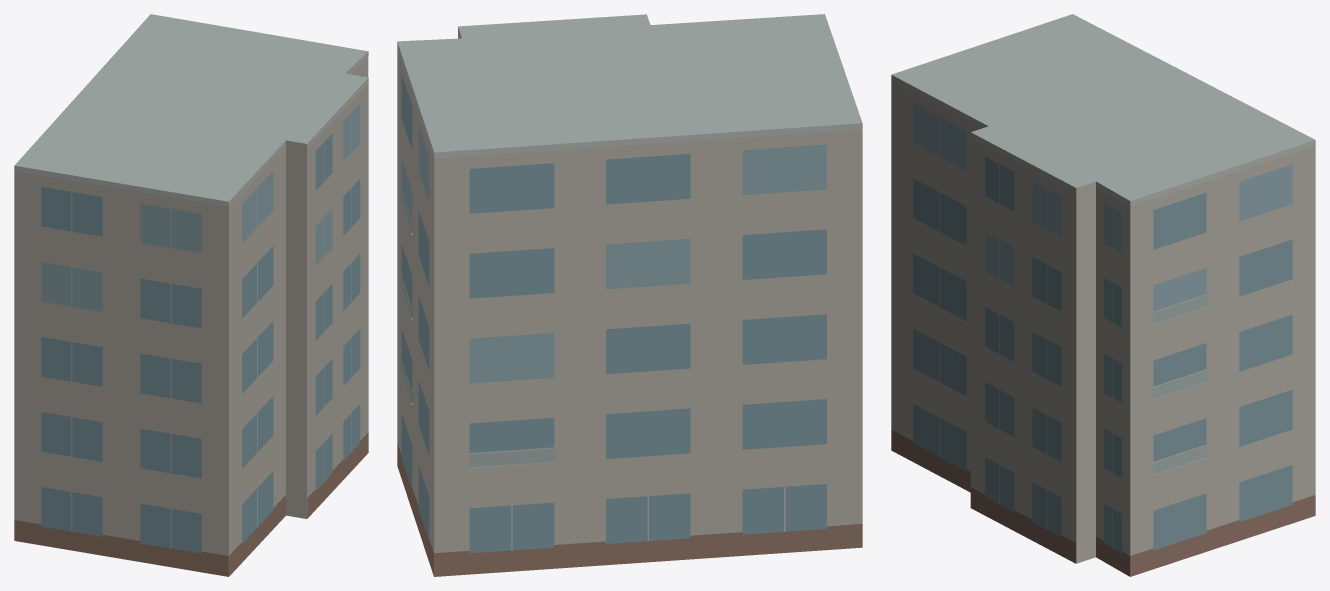
File: survey-upis-32765363.glb
3 renders of one model, left to right at view 1: azimuth 30°, elevation 25°; view 2: azimuth 150°, elevation 25°; view 3: azimuth 270°, elevation 25°, orthographic. The views are drawn at different scales.
Parts seen in each view (by area): view 1: survey-upis-32765363.tmp; view 2: survey-upis-32765363.tmp; view 3: survey-upis-32765363.tmp.
Boxes of the visible parts, <box> form: survey-upis-32765363.tmp: <box>14,14,368,576</box>; survey-upis-32765363.tmp: <box>397,14,862,576</box>; survey-upis-32765363.tmp: <box>891,14,1315,576</box>.
Size of the model in its own units: 17.92 by 16.78 by 17.18.
